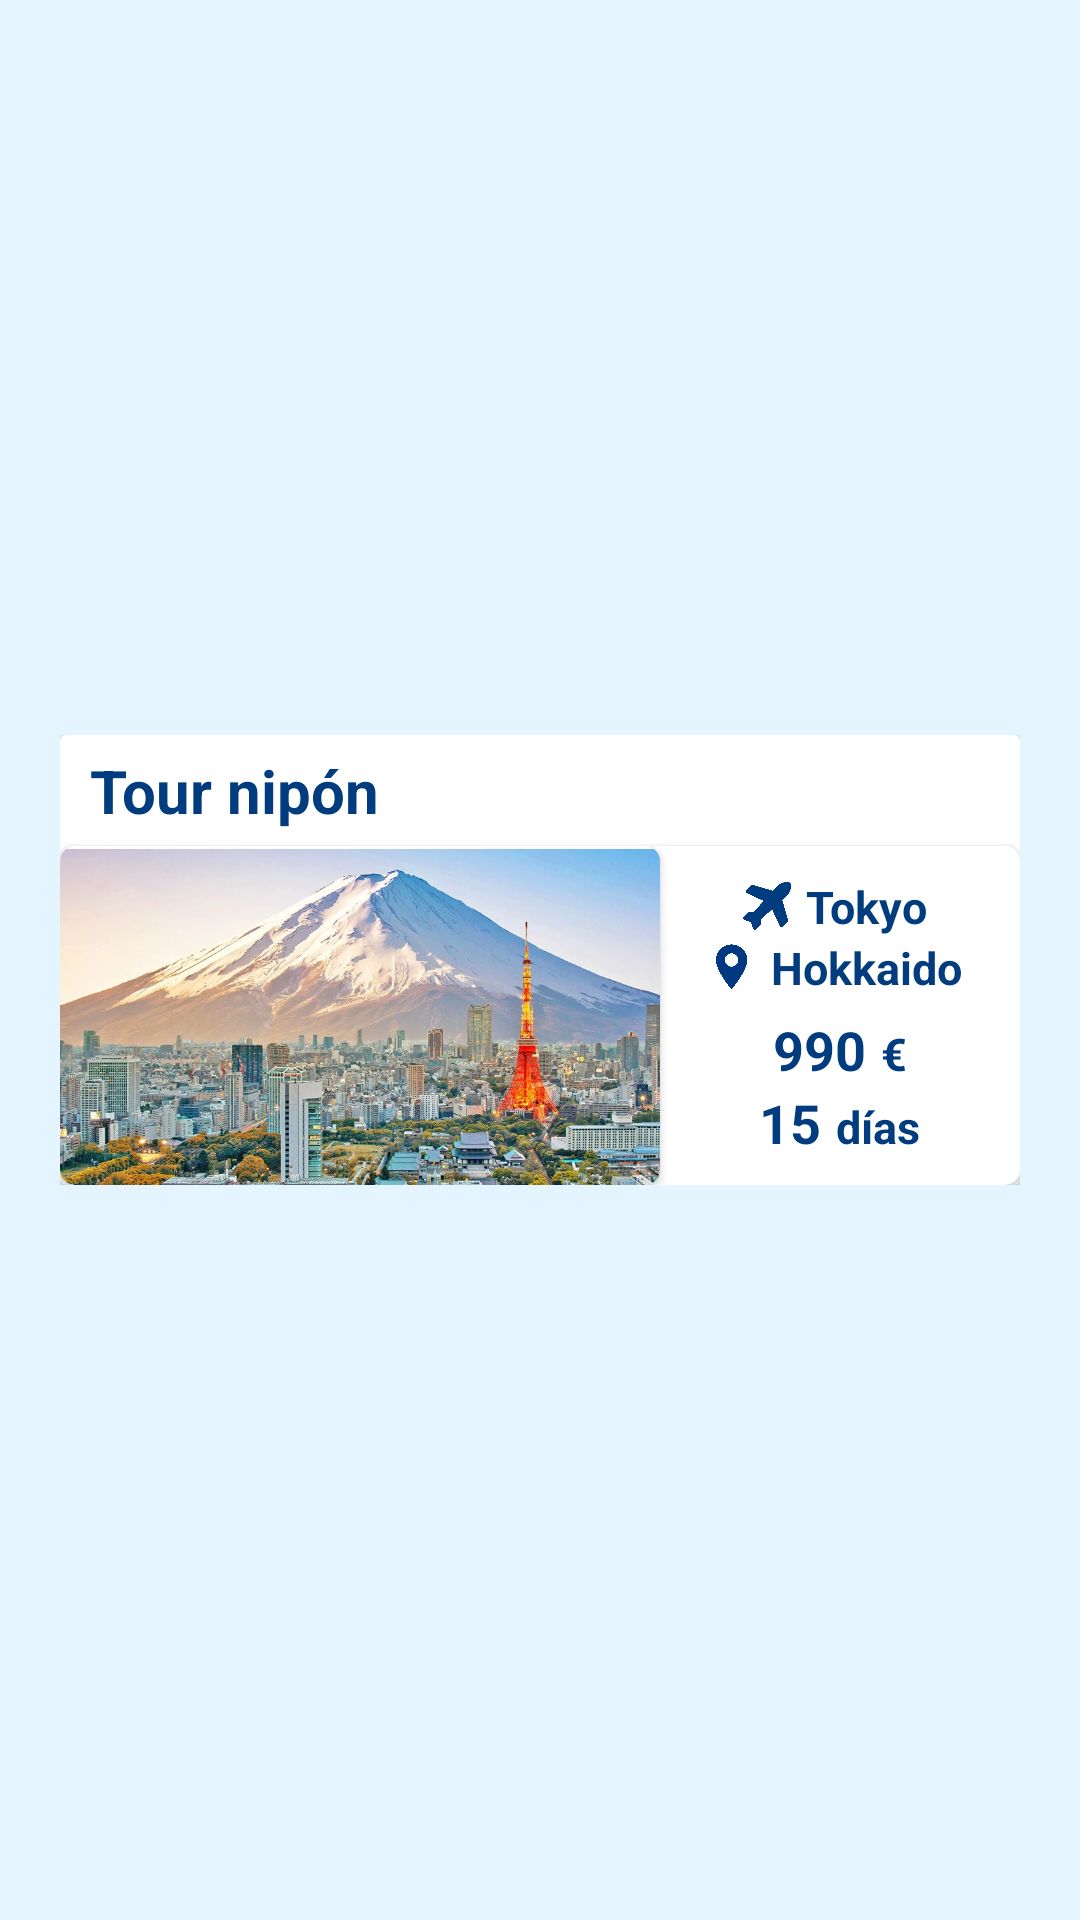

Icon click points for this 1080 x 1920 phone screenshot, format point (x, y):
avion: point (767, 906)
localtion: point (731, 966)
